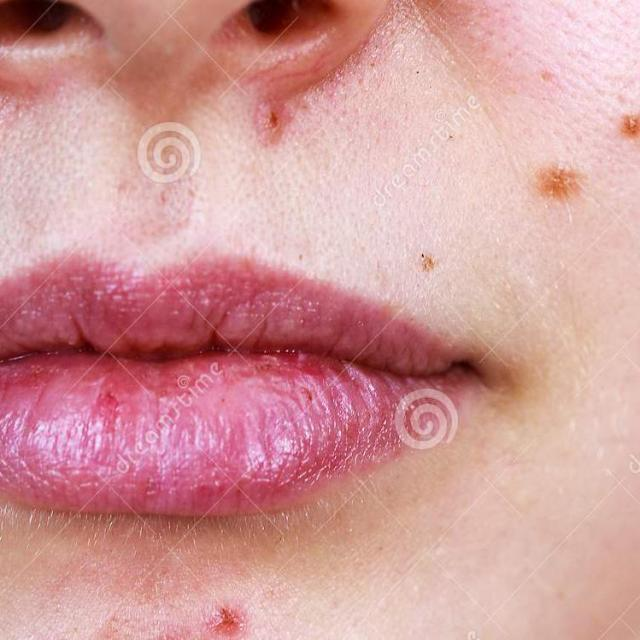blackheads: (534, 150, 576, 208), (250, 90, 286, 144), (203, 595, 246, 632), (617, 110, 640, 134), (415, 246, 434, 270)
